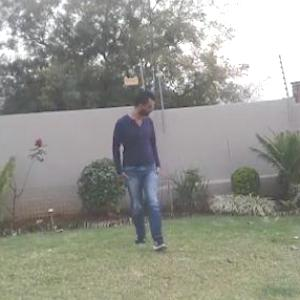follow: (114, 77, 176, 274)
